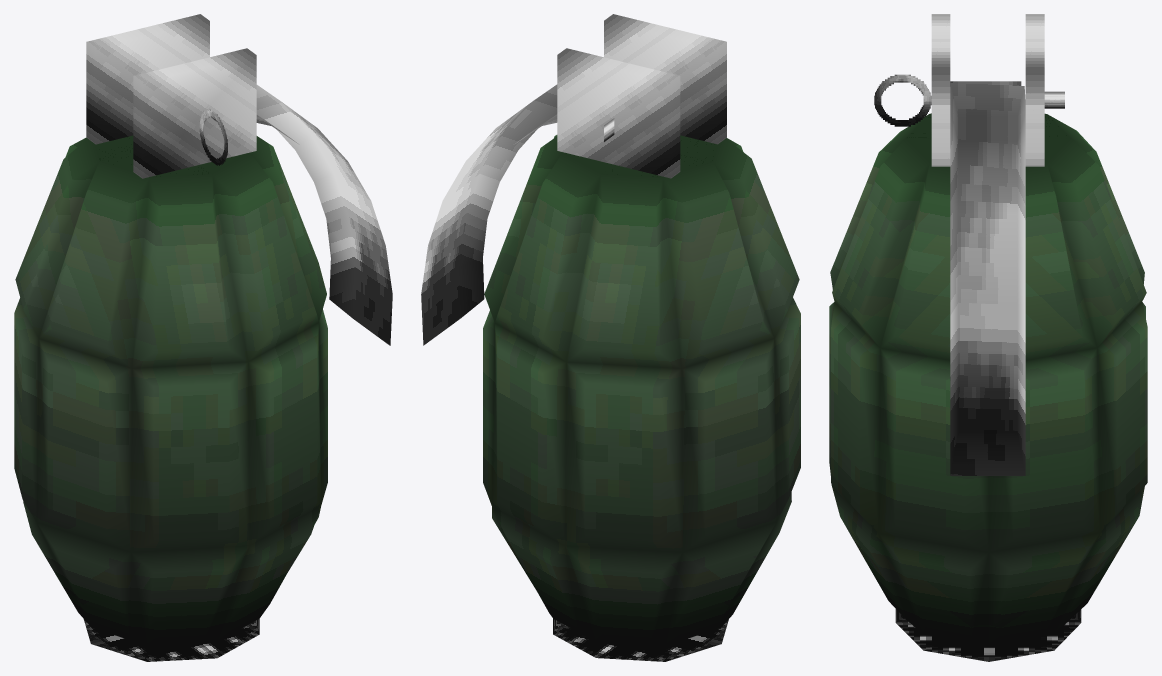
File: gun.glb
The picture shows the model from 3 angles, left to right: view 1: azimuth 30°, elevation 25°; view 2: azimuth 150°, elevation 25°; view 3: azimuth 270°, elevation 25°; orthographic projection.
Parts seen in each view (by area): view 1: m0, m3, m1, m5ClampSClampT, m2CullBoth; view 2: m0, m3, m1, m5ClampSClampT; view 3: m0, m1, m3, m5ClampSClampT, m2CullBoth.
Part boxes in pixels (<box>): m0: <box>14,135,327,645</box>; m3: <box>86,14,256,178</box>; m1: <box>256,85,392,345</box>; m5ClampSClampT: <box>83,618,259,661</box>; m2CullBoth: <box>199,109,227,165</box>; m0: <box>483,135,800,645</box>; m3: <box>557,14,726,178</box>; m1: <box>421,84,557,345</box>; m5ClampSClampT: <box>553,618,728,661</box>; m0: <box>829,113,1147,645</box>; m1: <box>950,81,1025,475</box>; m3: <box>931,14,1044,166</box>; m5ClampSClampT: <box>895,609,1081,661</box>; m2CullBoth: <box>874,74,931,126</box>.
Size of the model in its own units: 440 by 715 by 355.
Materials: 6 (6 with a texture image).
